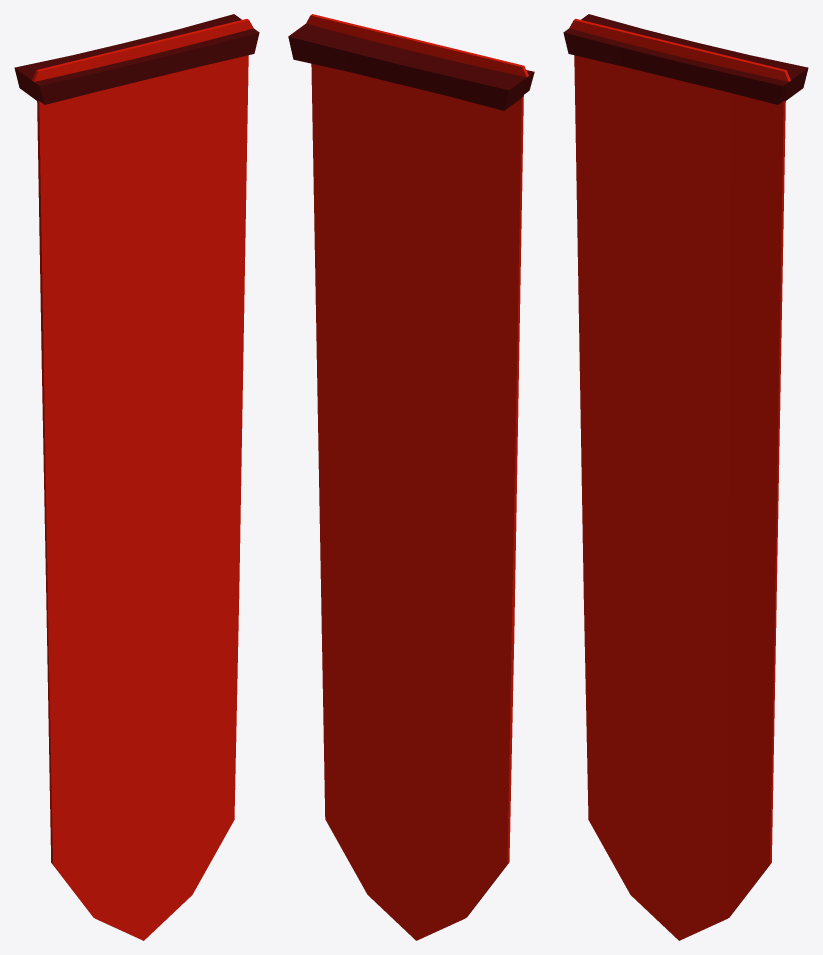
Rendered from Banner.fbx.
3 renders of one model, left to right at view 1: azimuth 30°, elevation 25°; view 2: azimuth 150°, elevation 25°; view 3: azimuth 330°, elevation 25°, orthographic.
Parts seen in each view (by area): view 1: Cube; view 2: Cube; view 3: Cube.
Part boxes in pixels (x1,y1,x2,y2): Cube: (14, 14, 259, 940); Cube: (288, 14, 534, 940); Cube: (563, 14, 808, 940).
Size of the model in its own units: 254 by 50.83 by 990.
